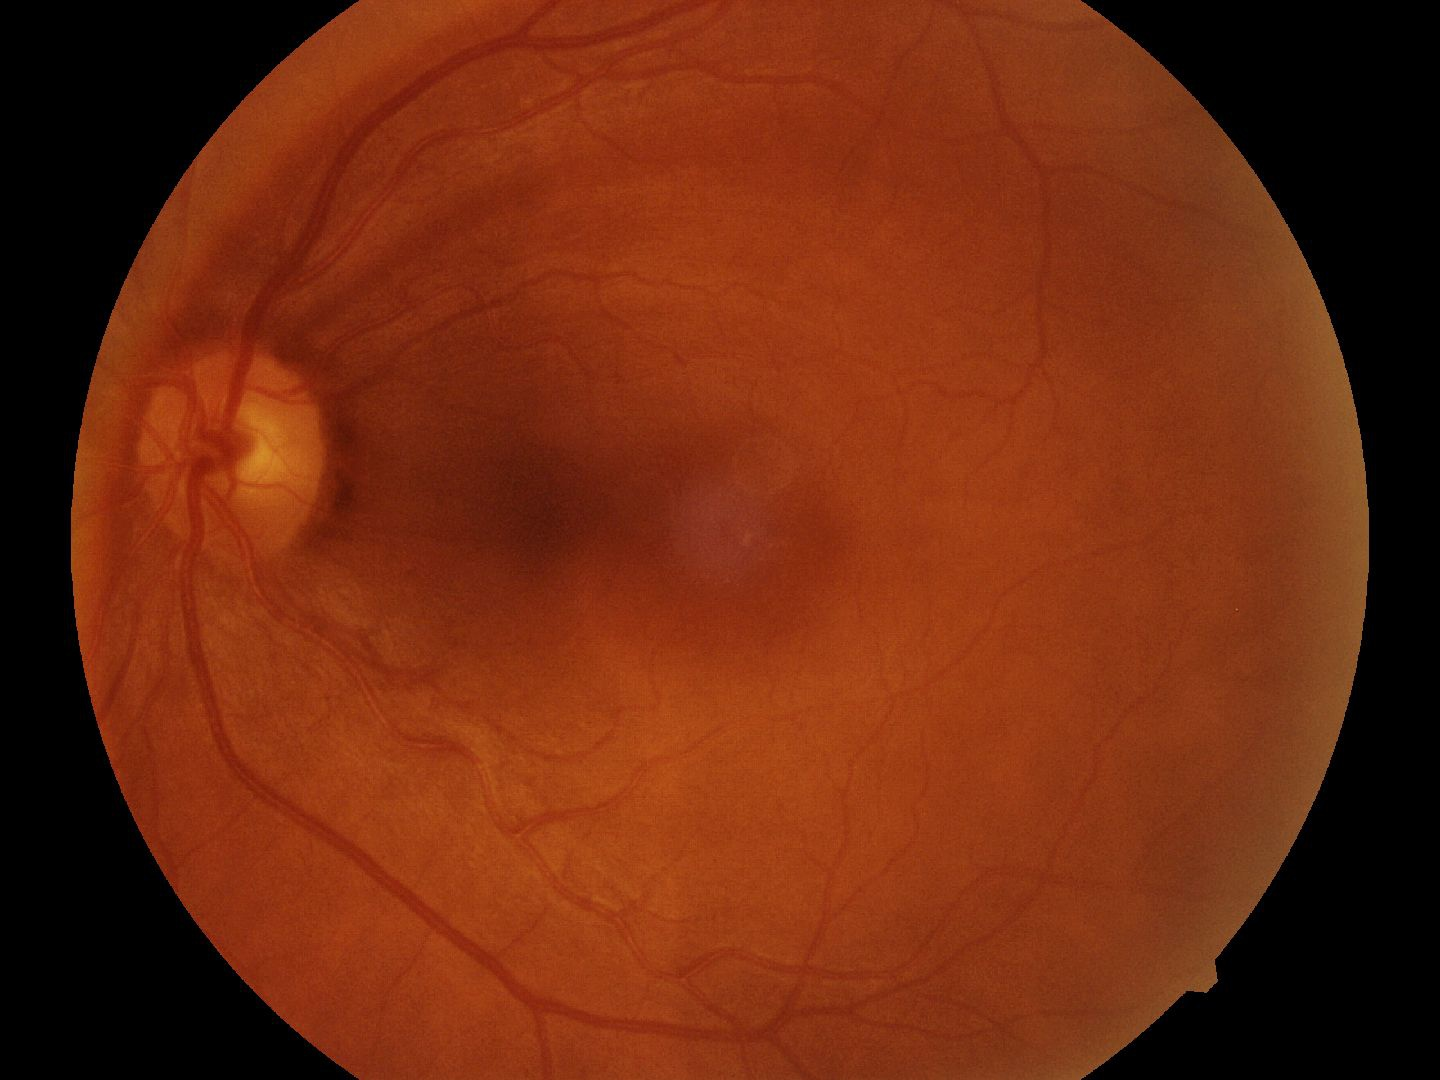Optic-Disc: (130, 343, 345, 579)
Venules: (291, 784, 519, 974)
